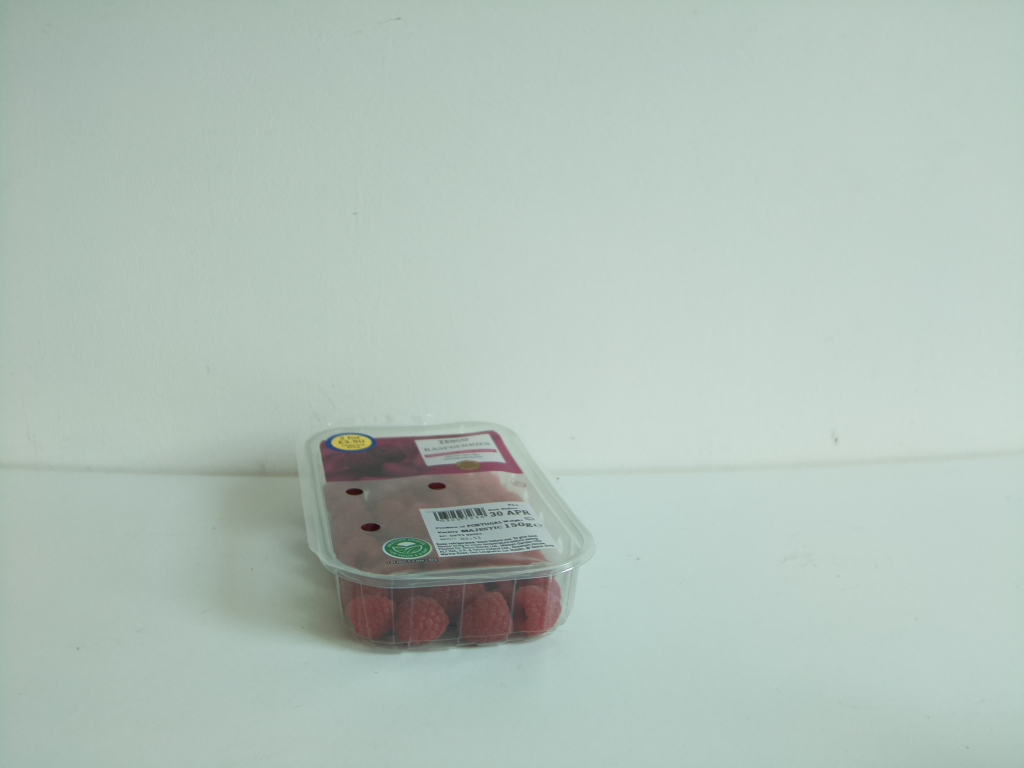soft-fruit: (301, 426, 589, 649)
